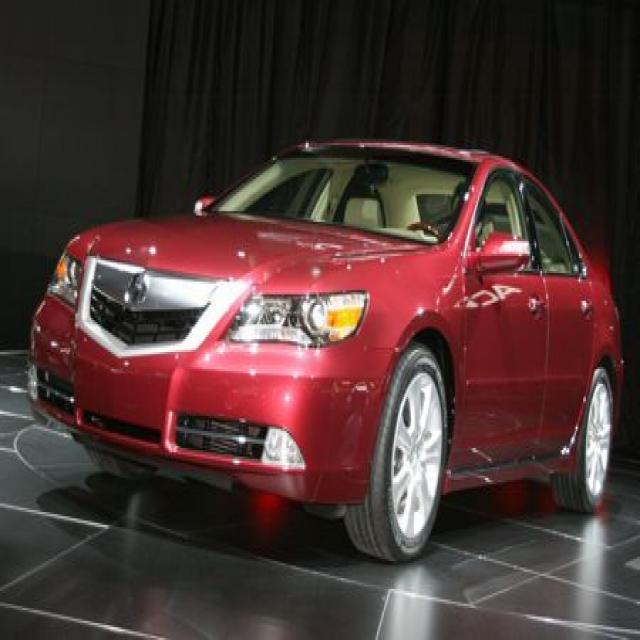car: (28, 137, 626, 561)
